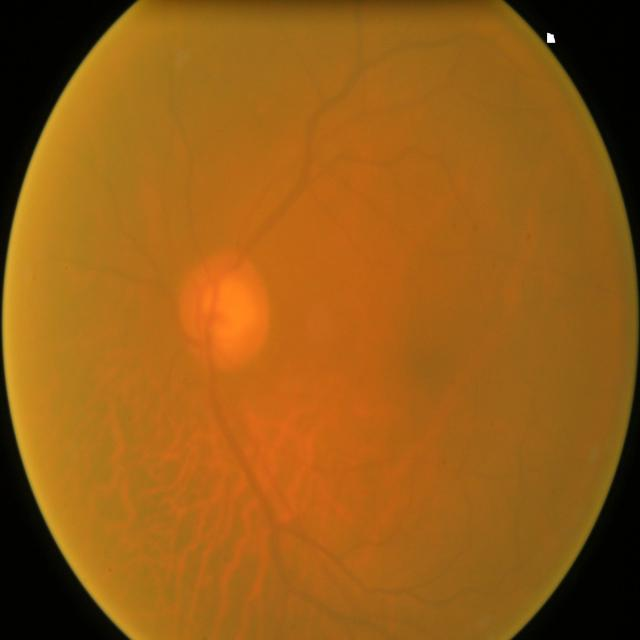OC: (201, 276, 255, 344)
OD: (178, 252, 272, 362)
